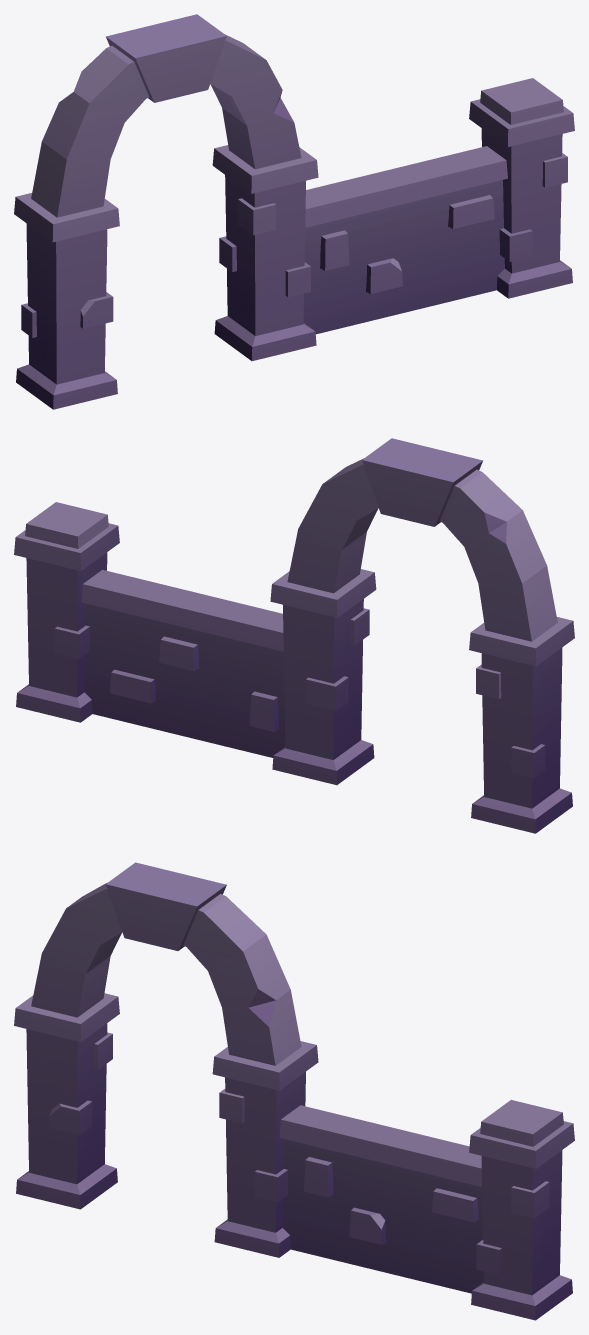
Rendered from wallArch.glb.
The picture shows the model from 3 angles, top to bottom: view 1: azimuth 30°, elevation 25°; view 2: azimuth 150°, elevation 25°; view 3: azimuth 330°, elevation 25°; orthographic projection.
Visible parts, largest first — view 1: wallArch; view 2: wallArch; view 3: wallArch.
Part boxes in pixels (left/top/right/bottom): wallArch: left=14, top=14, right=574, bottom=409; wallArch: left=14, top=438, right=574, bottom=833; wallArch: left=14, top=862, right=574, bottom=1320.
Bounding box in the file's own units: 7.17 × 4.3 × 0.9217.
1 material, 1 textured.
